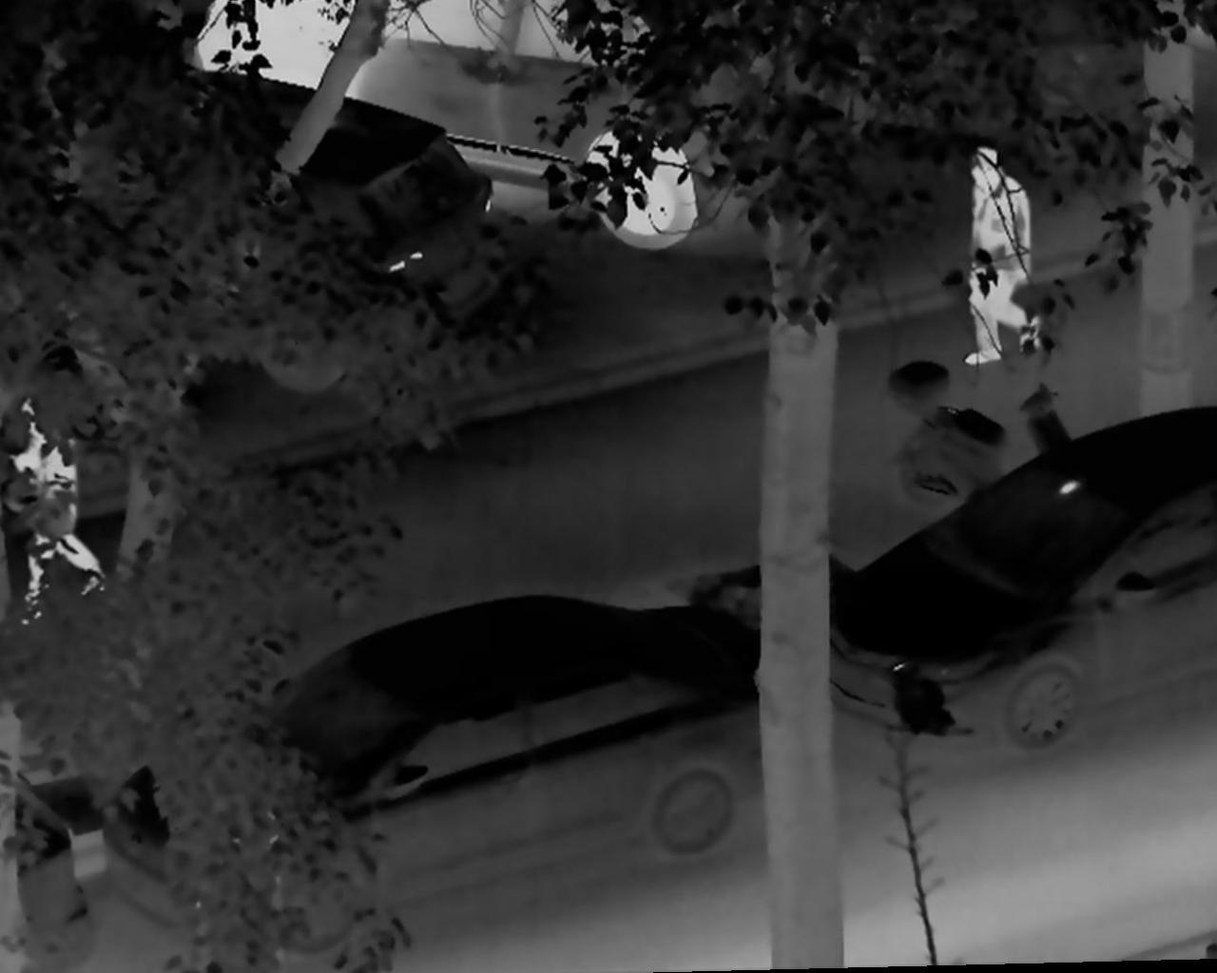person: (6, 377, 106, 640), (958, 143, 1048, 371)
